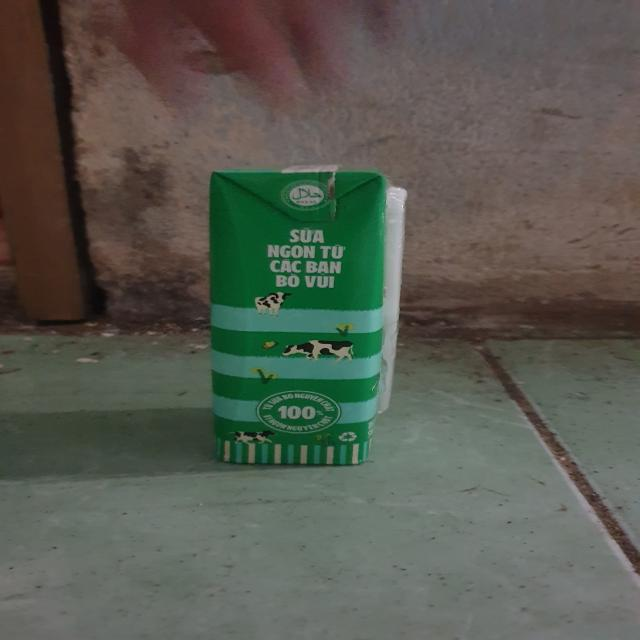Vina: (201, 165, 406, 473)
